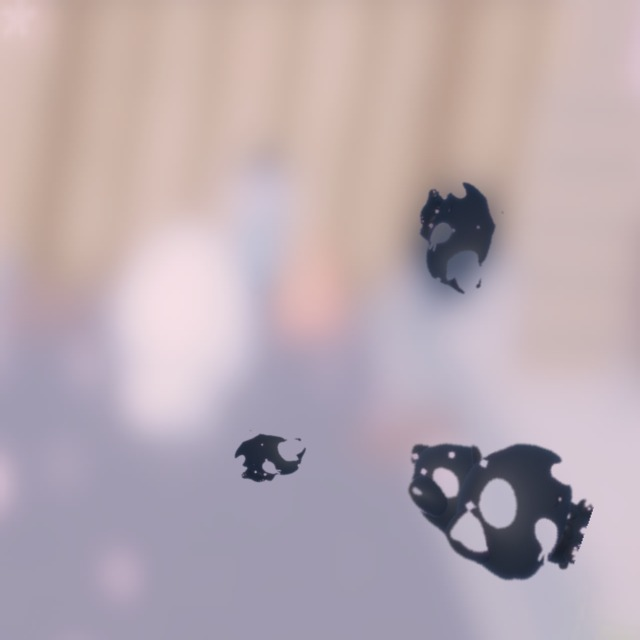urso_preto: (367, 389, 612, 606), (397, 158, 518, 314), (223, 424, 316, 490)
